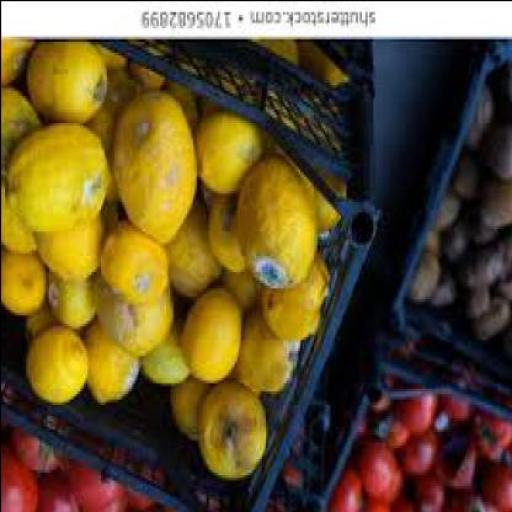biodegradable: (115, 94, 198, 247), (5, 127, 114, 236), (238, 154, 318, 290), (25, 41, 109, 130), (90, 76, 146, 206), (197, 384, 269, 482), (35, 203, 119, 282), (96, 282, 176, 360), (178, 288, 242, 384), (196, 114, 264, 197), (168, 197, 222, 301), (262, 262, 332, 342), (104, 225, 170, 309), (26, 330, 90, 407), (242, 314, 298, 396), (88, 320, 140, 406), (14, 404, 72, 480), (68, 442, 129, 511), (2, 89, 42, 182), (295, 162, 347, 232), (144, 316, 192, 390), (351, 433, 402, 501), (209, 198, 249, 276), (2, 181, 40, 258), (2, 255, 46, 320), (48, 272, 96, 330), (171, 382, 211, 441), (293, 46, 347, 89), (2, 450, 39, 511), (469, 294, 511, 346), (121, 463, 165, 511), (482, 111, 511, 183), (397, 390, 439, 436), (25, 309, 85, 341), (475, 411, 511, 464), (464, 95, 496, 151), (402, 430, 440, 477), (474, 463, 511, 511), (36, 471, 80, 511), (443, 444, 478, 494), (403, 260, 441, 304), (481, 178, 511, 232), (405, 471, 445, 511), (453, 154, 485, 204), (466, 203, 500, 250), (2, 46, 39, 89), (440, 398, 478, 439), (458, 248, 490, 296), (222, 274, 259, 314), (94, 46, 129, 84), (256, 41, 298, 70), (326, 477, 361, 511), (490, 232, 512, 282), (430, 274, 456, 314), (232, 368, 263, 400), (129, 70, 168, 95), (466, 290, 495, 322), (2, 388, 18, 442), (443, 231, 468, 265), (386, 415, 412, 447), (440, 198, 462, 233), (371, 385, 395, 417), (442, 492, 475, 511), (374, 415, 393, 442), (495, 276, 511, 302), (362, 498, 392, 511), (392, 498, 418, 511), (424, 239, 441, 255)
